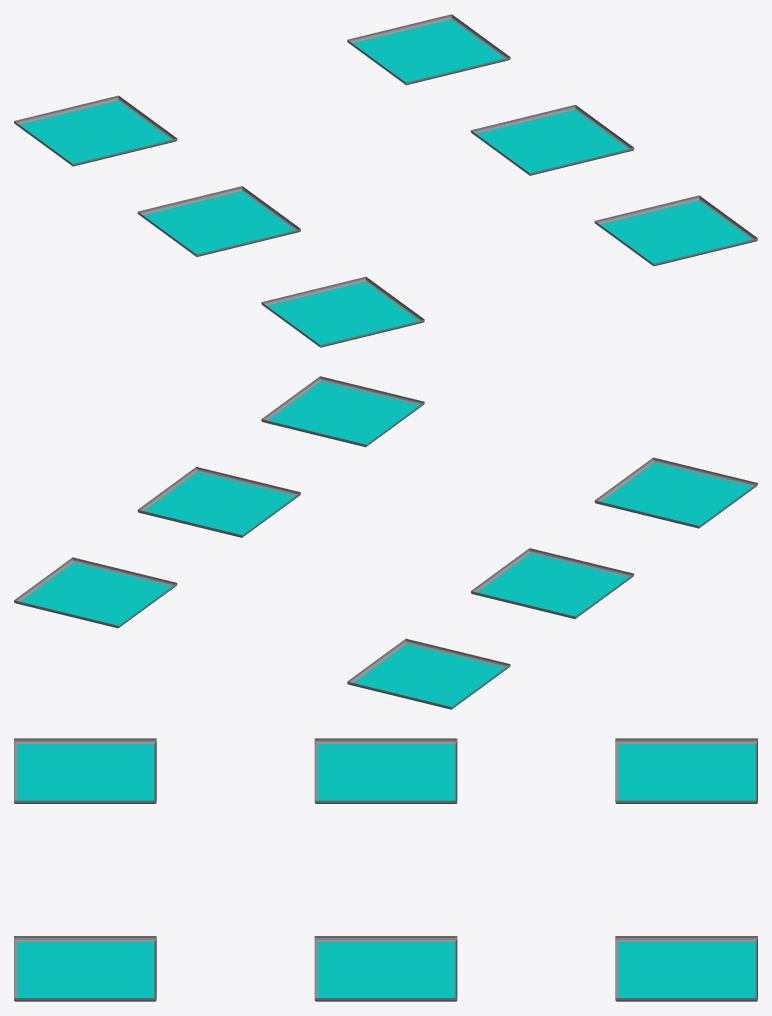
File: Mod_Lab_Deng.FBX
The picture shows the model from 3 angles, top to bottom: view 1: azimuth 30°, elevation 25°; view 2: azimuth 150°, elevation 25°; view 3: azimuth 270°, elevation 25°; orthographic projection. The views are drawn at different scales.
Parts seen in each view (by area): view 1: deng; view 2: deng; view 3: deng.
Boxes of the visible parts, bbox=[...] form: deng: bbox=[14, 14, 757, 347]; deng: bbox=[14, 376, 757, 709]; deng: bbox=[14, 738, 757, 1001].
Bounding box in the file's own units: 208 × 1.66 × 252.
